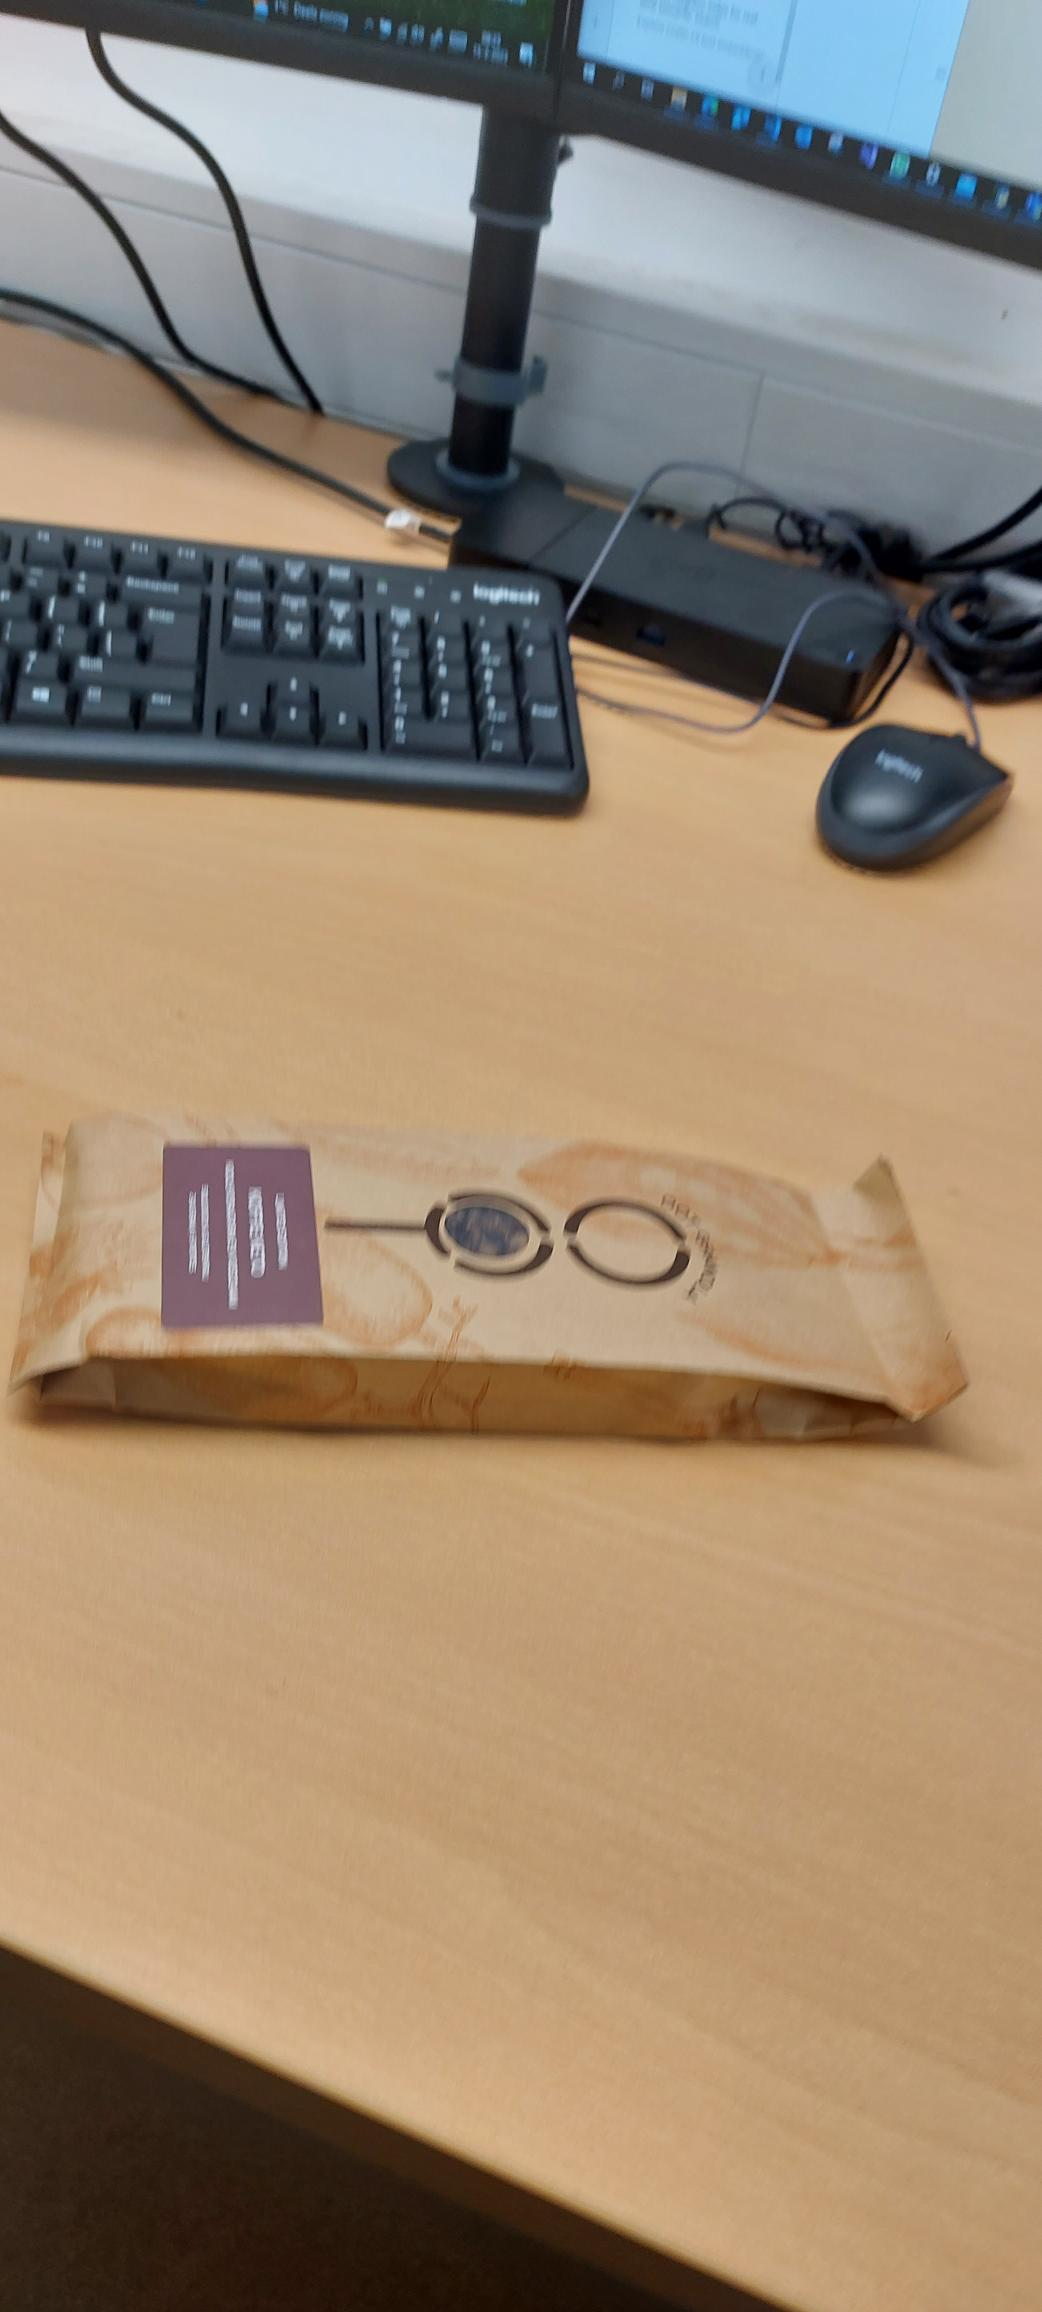KoffieKeto: (141, 1135, 335, 1340)
